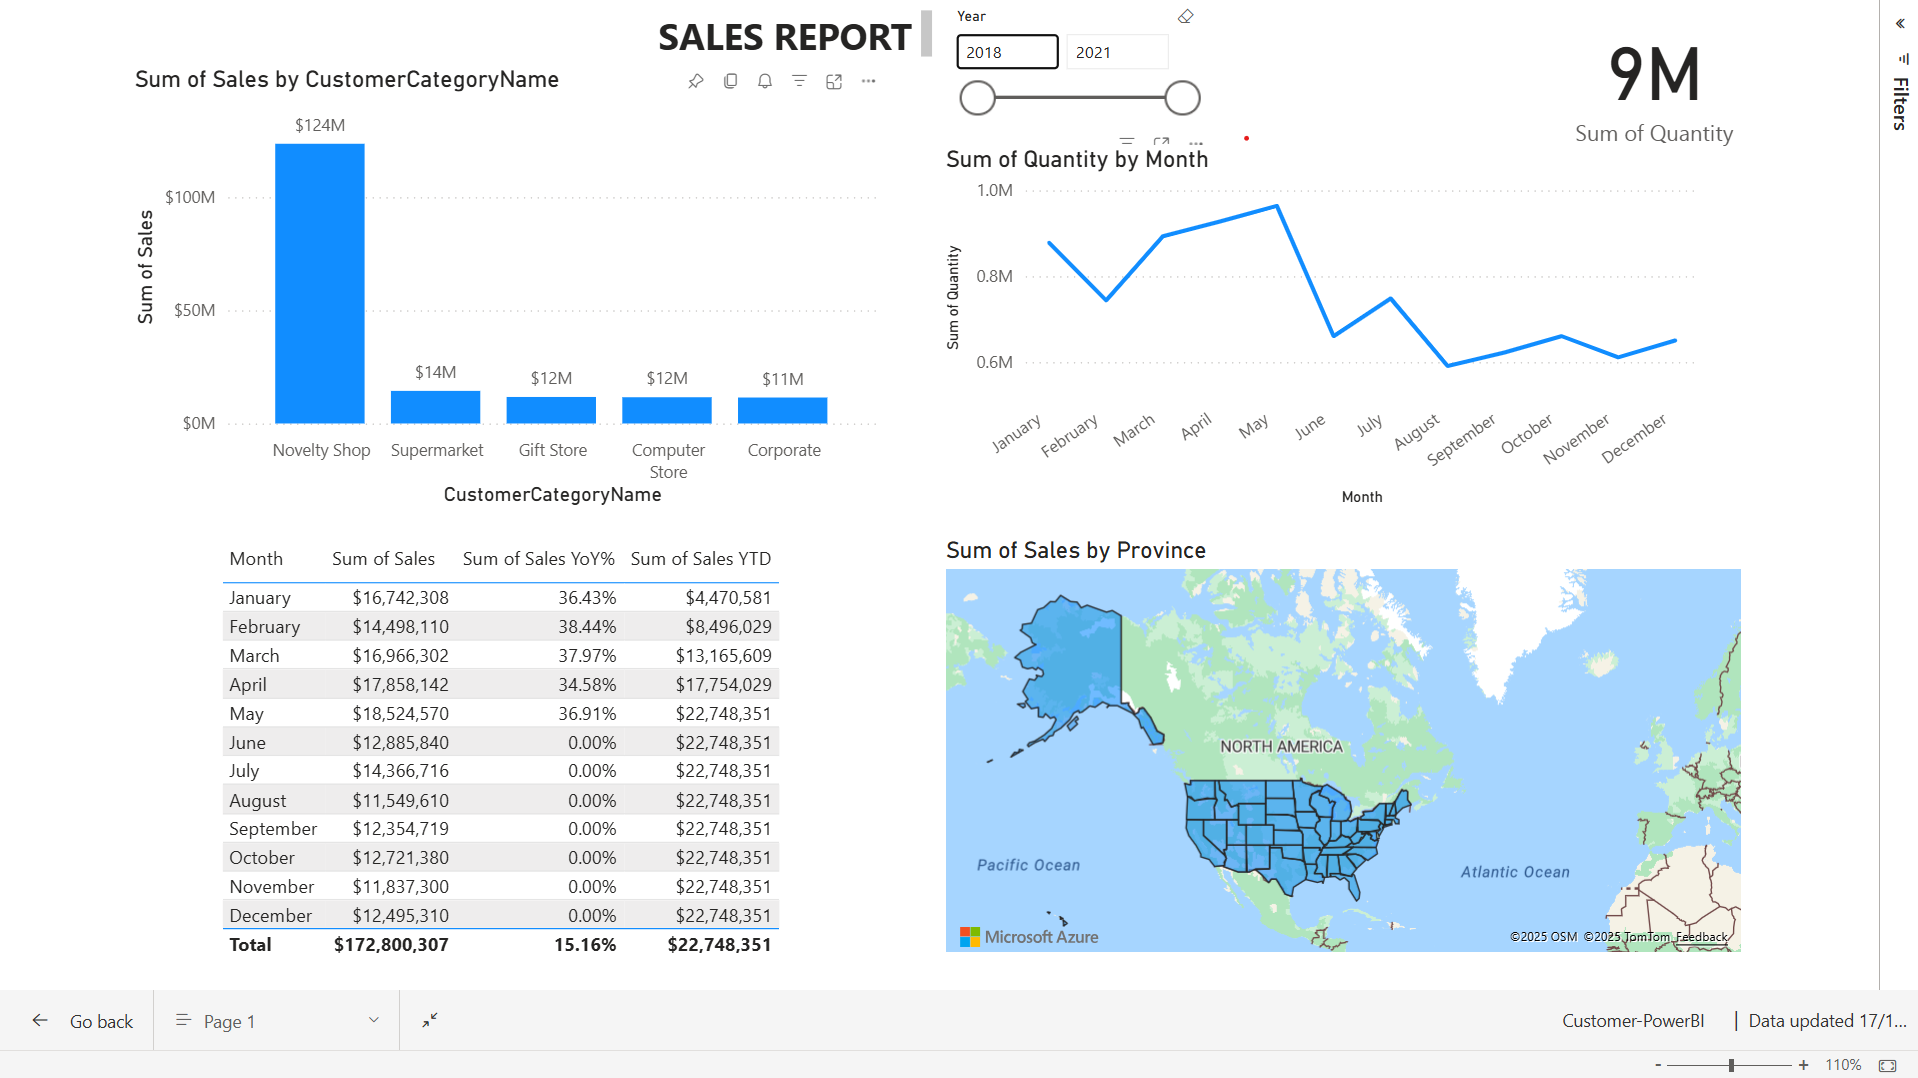

The dashboard page shown, as its layout file describes it:
{"tool":"powerbi","page":{"name":"Page 1","canvas":[1280,720],"ordinal":0},"visuals":[{"type":"clusteredColumnChart","fields":{"Y":["Sum(InvoiceData.Sales)"],"Category":["MasterCustomer1.CustomerCategoryName"]},"box":[50,47.1,550,325.7],"z":0},{"type":"slicer","fields":{"Values":["InvoiceData.Date.Variation.Date Hierarchy.Year"]},"box":[640,0,198.6,92.9],"z":1000},{"type":"tableEx","fields":{"Values":["InvoiceData.Date.Variation.Date Hierarchy.Month","Sum(InvoiceData.Sales)","InvoiceData.Sum of Sales YoY%","InvoiceData.Sum of Sales YTD"]},"box":[112.9,390,425.7,330],"z":2000},{"type":"azureMap","fields":{"Category":["MasterCustomer1.Province"]},"box":[640,390,588.6,307.1],"z":3000},{"type":"lineChart","fields":{"Y":["Sum(InvoiceData.Quantity)"],"Category":["InvoiceData.Date.Variation.Date Hierarchy.Month"]},"box":[640,105.7,557.1,267.1],"z":4000},{"type":"textbox","box":[424.3,2.9,215.7,44.3],"z":5000},{"type":"card","fields":{"Values":["Sum(InvoiceData.Quantity)"]},"box":[1091.4,2.9,137.1,110],"z":6000}]}

Visuals, with their boxes on the page's 1280x720 design canvas (x1, y1, x2, y2). These are canvas units, not pixel positions in the 1918x1078 screenshot, which may show the page scaled, cropped or inside an application window:
clusteredColumnChart - Sum(InvoiceData.Sales) x MasterCustomer1.CustomerCategoryName: select_region(50, 47, 600, 373)
slicer - InvoiceData.Date.Variation.Date Hierarchy.Year: select_region(640, 0, 839, 93)
tableEx - InvoiceData.Date.Variation.Date Hierarchy.Month x Sum(InvoiceData.Sales): select_region(113, 390, 539, 720)
azureMap - MasterCustomer1.Province: select_region(640, 390, 1229, 697)
lineChart - Sum(InvoiceData.Quantity) x InvoiceData.Date.Variation.Date Hierarchy.Month: select_region(640, 106, 1197, 373)
textbox: select_region(424, 3, 640, 47)
card - Sum(InvoiceData.Quantity): select_region(1091, 3, 1228, 113)
